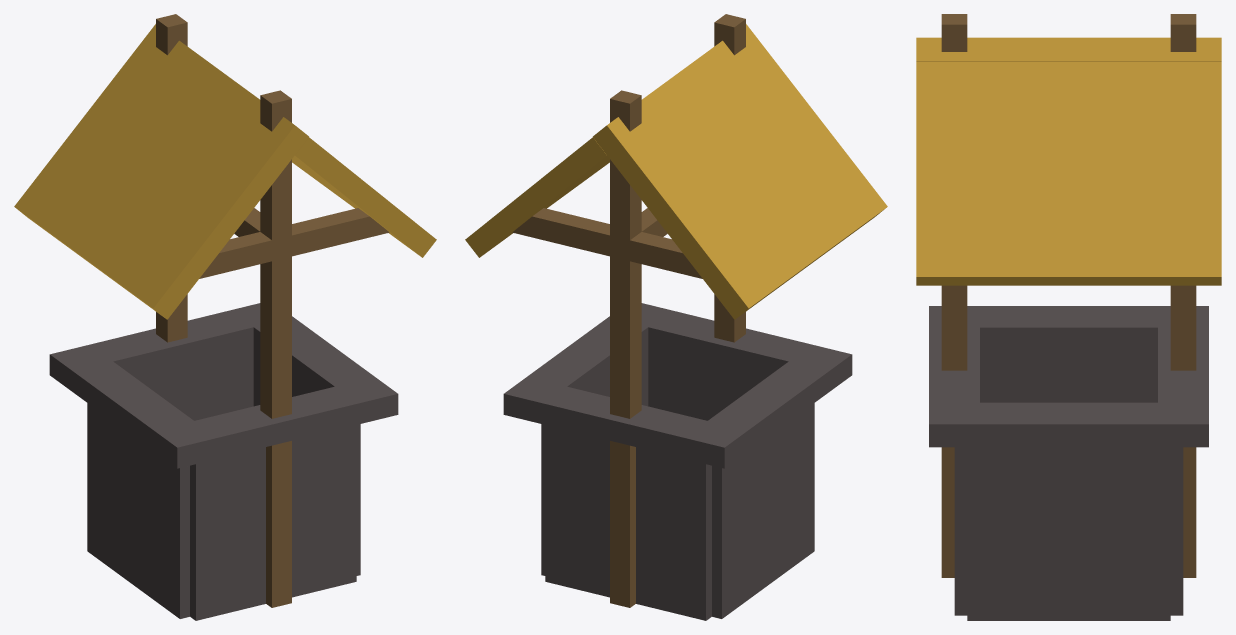
Rendered from well.gltf.
3 renders of one model, left to right at view 1: azimuth 30°, elevation 25°; view 2: azimuth 150°, elevation 25°; view 3: azimuth 270°, elevation 25°, orthographic. The views are drawn at different scales.
Visible parts, largest first — view 1: base, roof; view 2: base, roof; view 3: roof, base.
Part boxes in pixels (x1=…): base: x1=49, y1=303, x2=398, y2=620; roof: x1=14, y1=14, x2=436, y2=607; base: x1=503, y1=303, x2=852, y2=620; roof: x1=465, y1=14, x2=887, y2=607; roof: x1=916, y1=14, x2=1221, y2=577; base: x1=929, y1=306, x2=1208, y2=620.
Bounding box in the file's own units: 1.77 × 3 × 1.5.
Materials: 1 (1 with a texture image).
